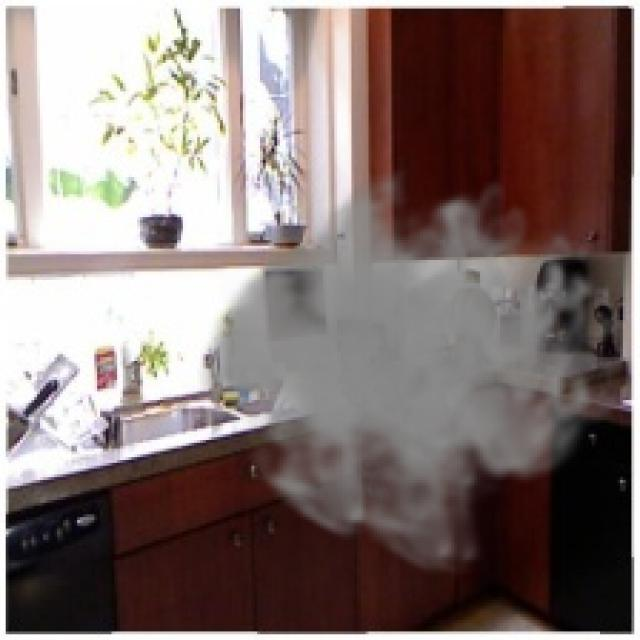smoke: (197, 154, 620, 580)
